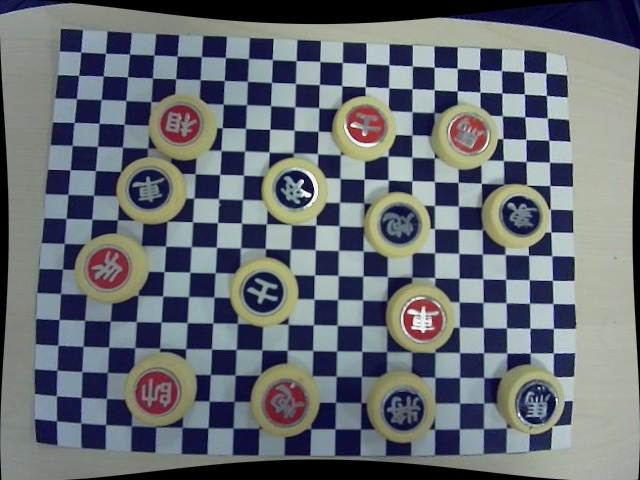Black-Cannon: (380, 202, 420, 247)
Black-Chariot: (128, 167, 174, 212)
Black-Elephant: (499, 193, 544, 241)
Black-General: (383, 388, 427, 434)
Black-Guard: (239, 269, 288, 315)
Black-Horse: (516, 380, 557, 428)
Black-Soldier: (273, 169, 319, 211)
Red-Cannon: (263, 379, 309, 427)
Red-Chariot: (400, 292, 448, 347)
Red-Elephant: (158, 101, 206, 147)
Red-General: (132, 369, 183, 416)
Red-Guard: (345, 104, 387, 149)
Red-Horse: (449, 111, 491, 159)
Red-Soldier: (84, 245, 133, 293)
